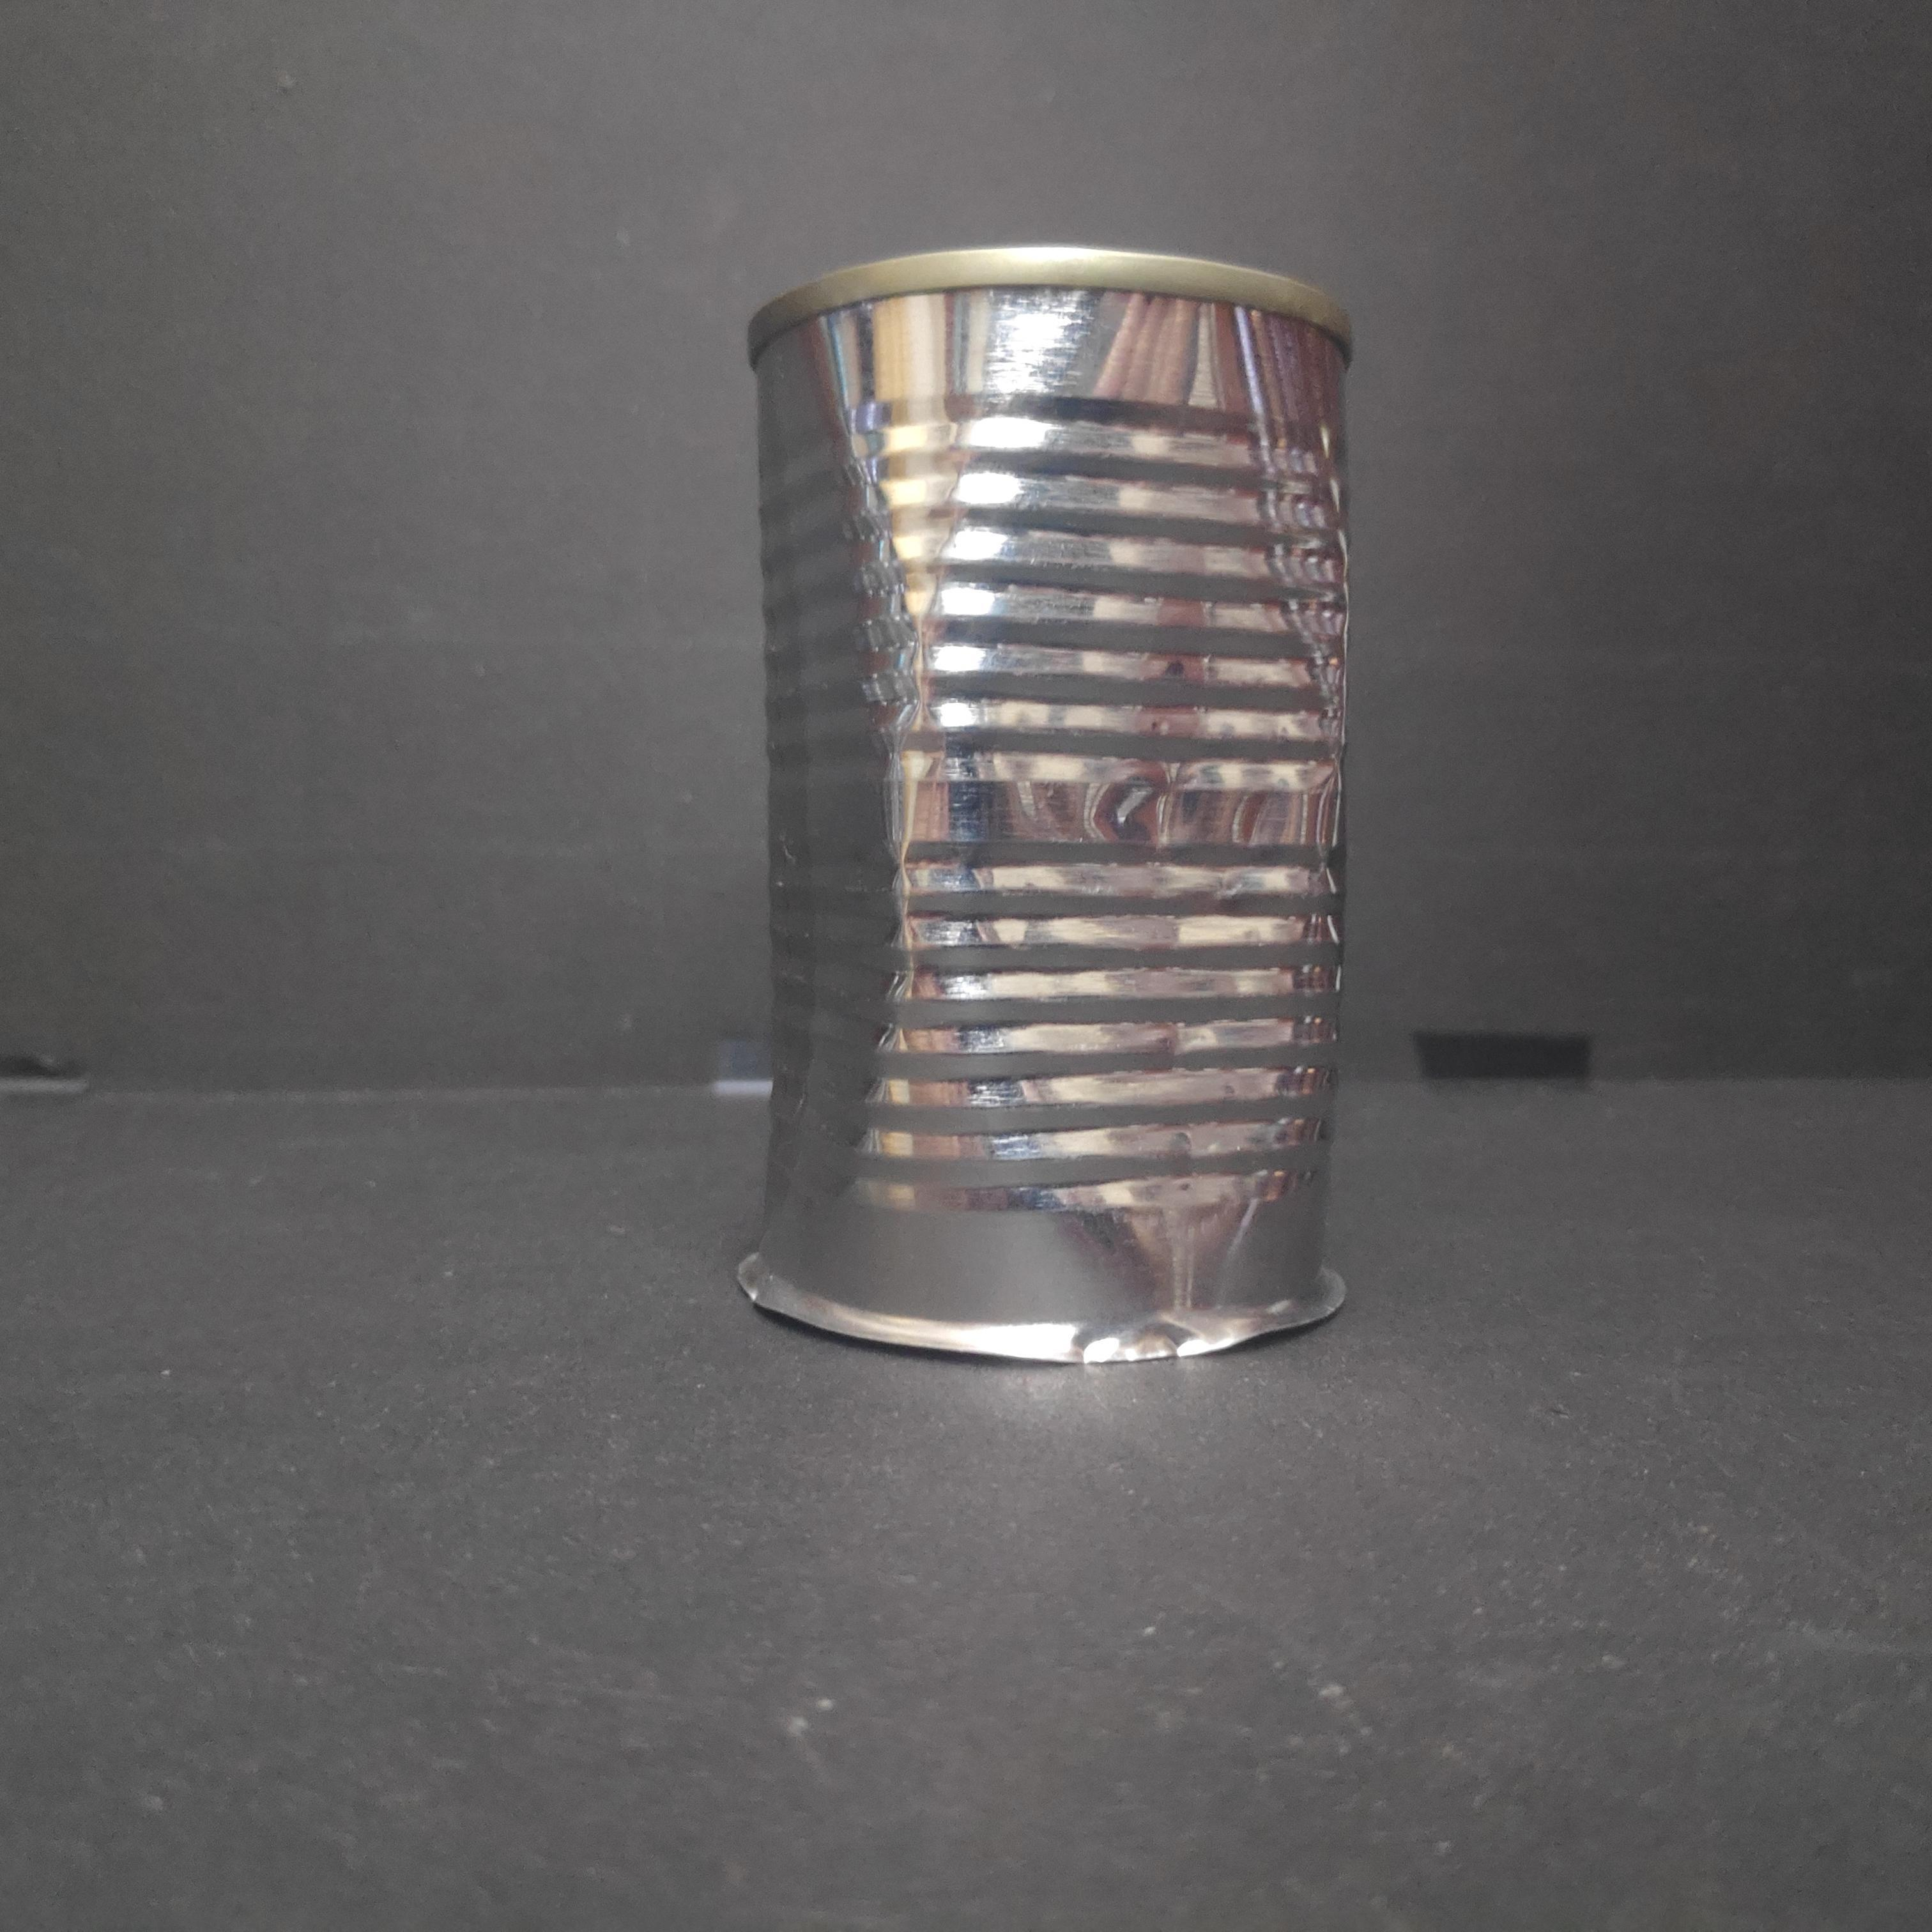Dented: (725, 221, 1387, 1403)
